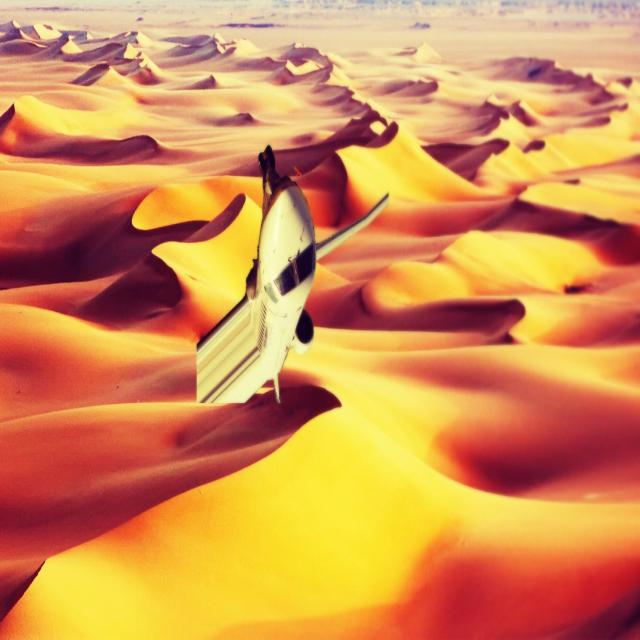airplane: (194, 143, 390, 405)
